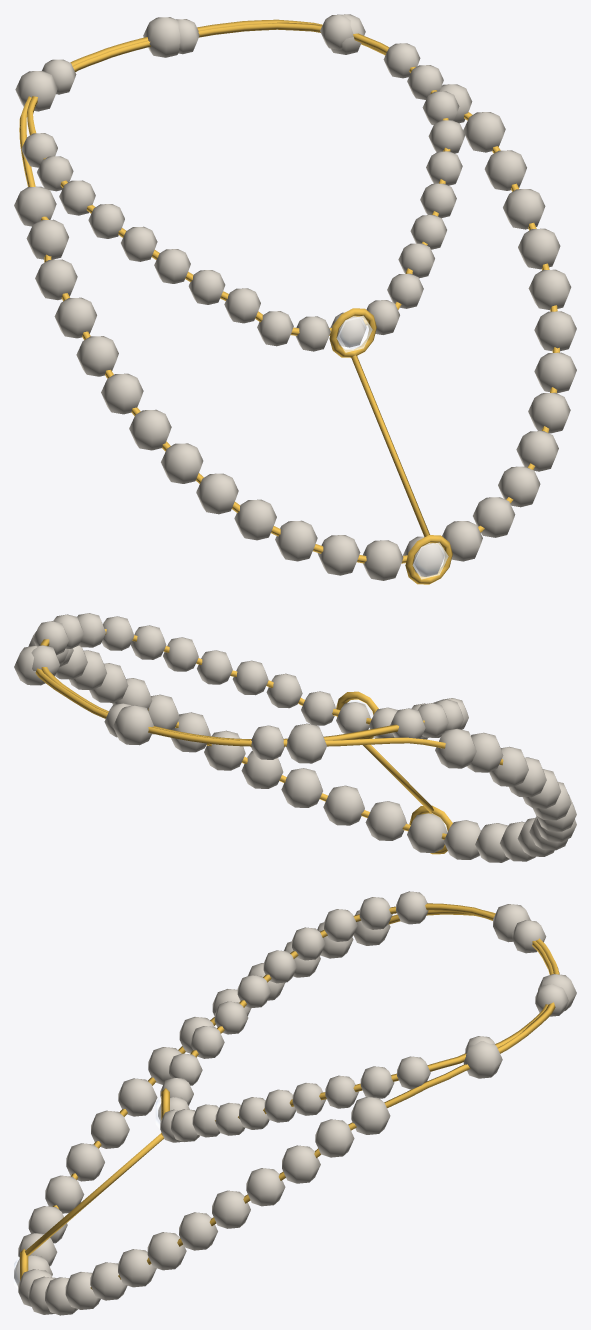
Rendered from double_pearls.glb.
3 renders of one model, top to bottom at view 1: azimuth 30°, elevation 25°; view 2: azimuth 150°, elevation 25°; view 3: azimuth 270°, elevation 25°, orthographic. The views are drawn at different scales.
Parts seen in each view (by area): view 1: double_pearls; view 2: double_pearls; view 3: double_pearls.
Part boxes in pixels (bbox=[...]): double_pearls: bbox=[14, 14, 576, 584]; double_pearls: bbox=[14, 613, 576, 862]; double_pearls: bbox=[14, 891, 576, 1315].
Bounding box in the file's own units: 0.1127 × 0.0786 × 0.1206.
